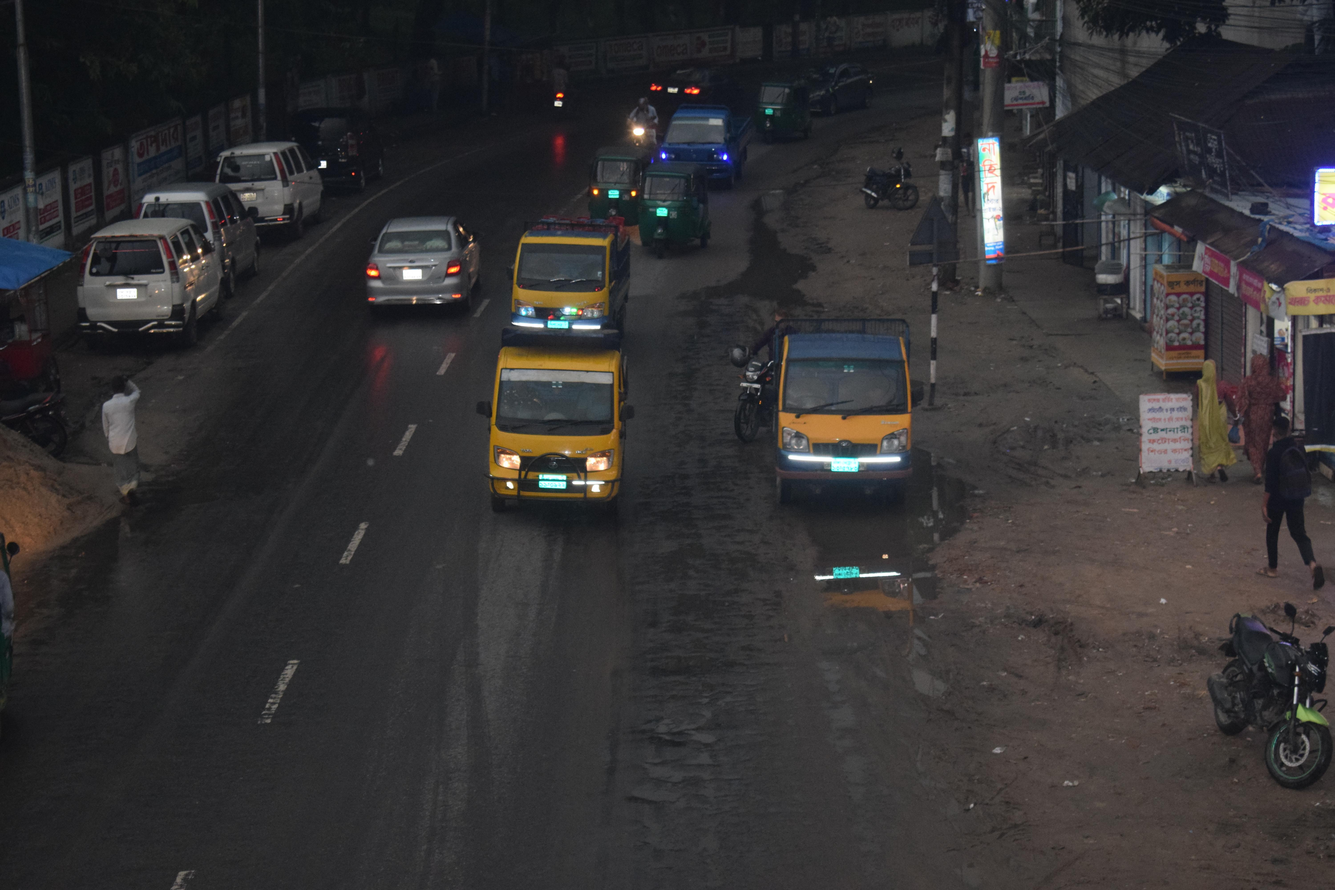Bike: (1171, 562, 1335, 804), (705, 296, 789, 469), (841, 132, 940, 243)
Car: (50, 192, 235, 370), (338, 192, 506, 335), (129, 166, 279, 285), (218, 125, 339, 256)
Truck: (451, 302, 673, 551), (747, 292, 943, 537), (478, 192, 668, 367), (644, 90, 772, 196)
